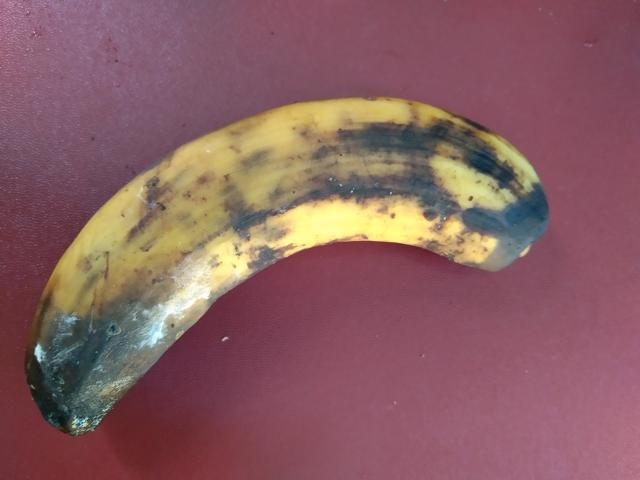rotten: (2, 66, 565, 464)
